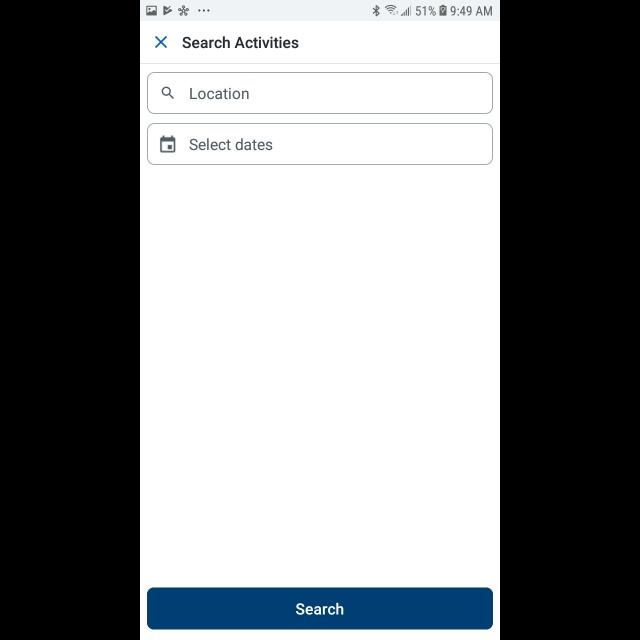icon: (160, 136, 176, 152), (156, 36, 168, 49), (162, 87, 174, 99)
input: (147, 123, 493, 165), (148, 73, 492, 115)
text: (183, 36, 299, 49), (190, 138, 272, 150), (190, 88, 250, 100)
textbutton: (147, 588, 493, 630)
uppertaskbar: (140, 1, 500, 22)
